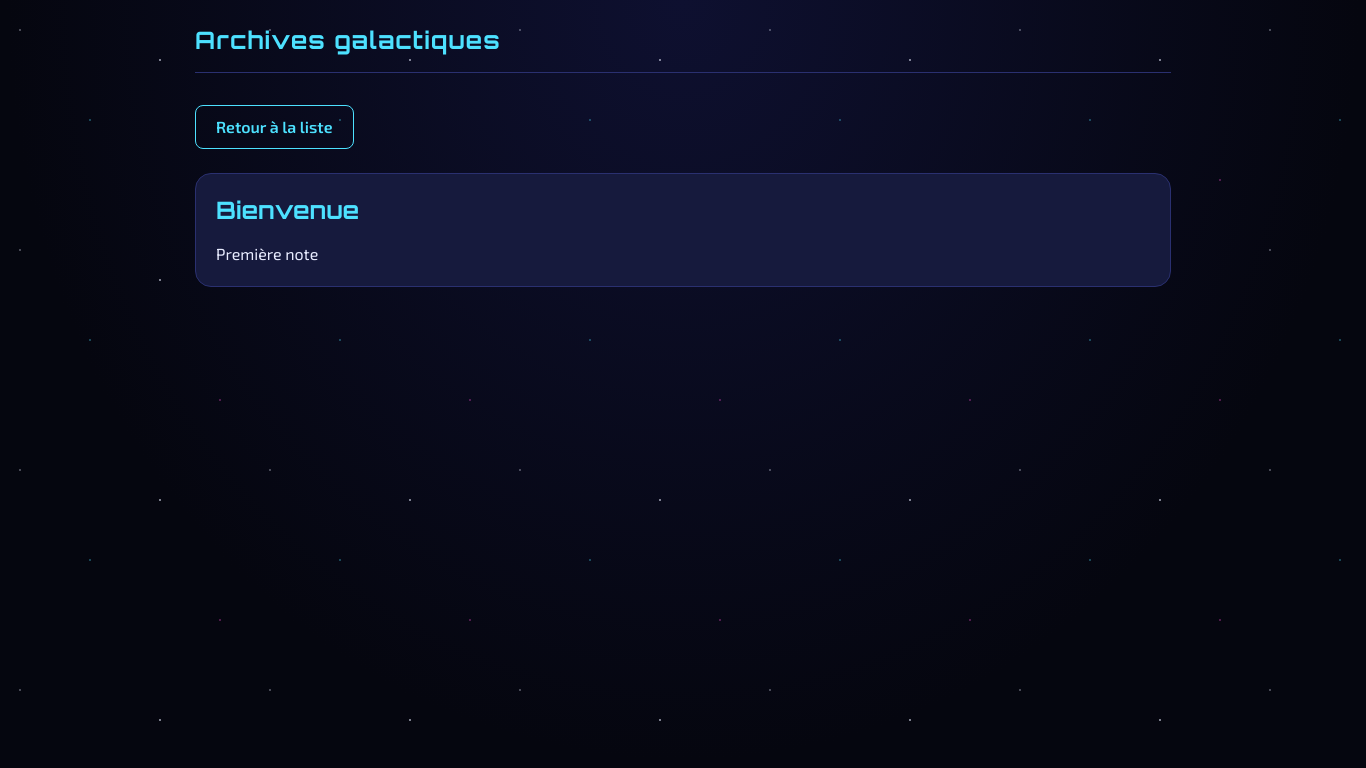
it: US-04 détail › TA-05 retour à la liste depuis le détail
Click the link "Retour à la liste".
click(274, 127)  # box [195, 105, 354, 149]
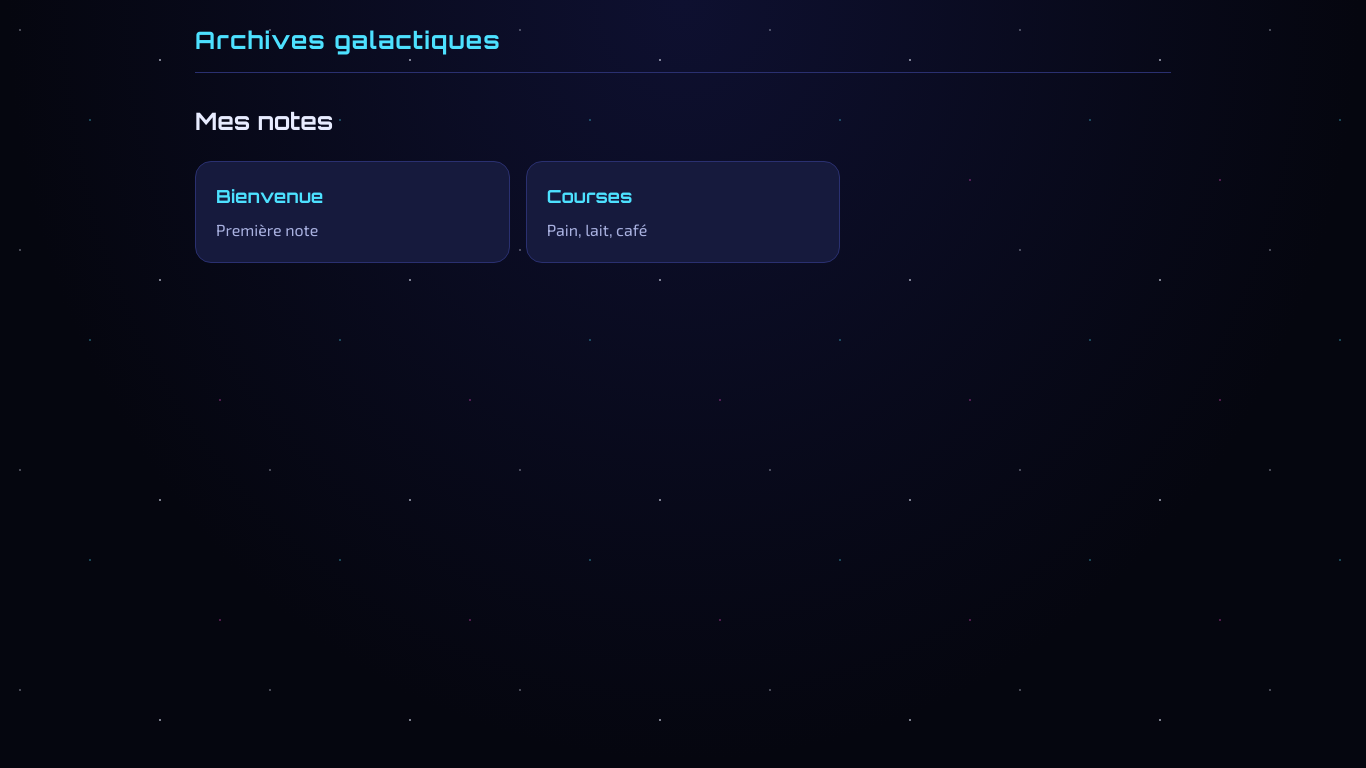
Now the heading "Courses" is shown, box [547, 185, 632, 207]
